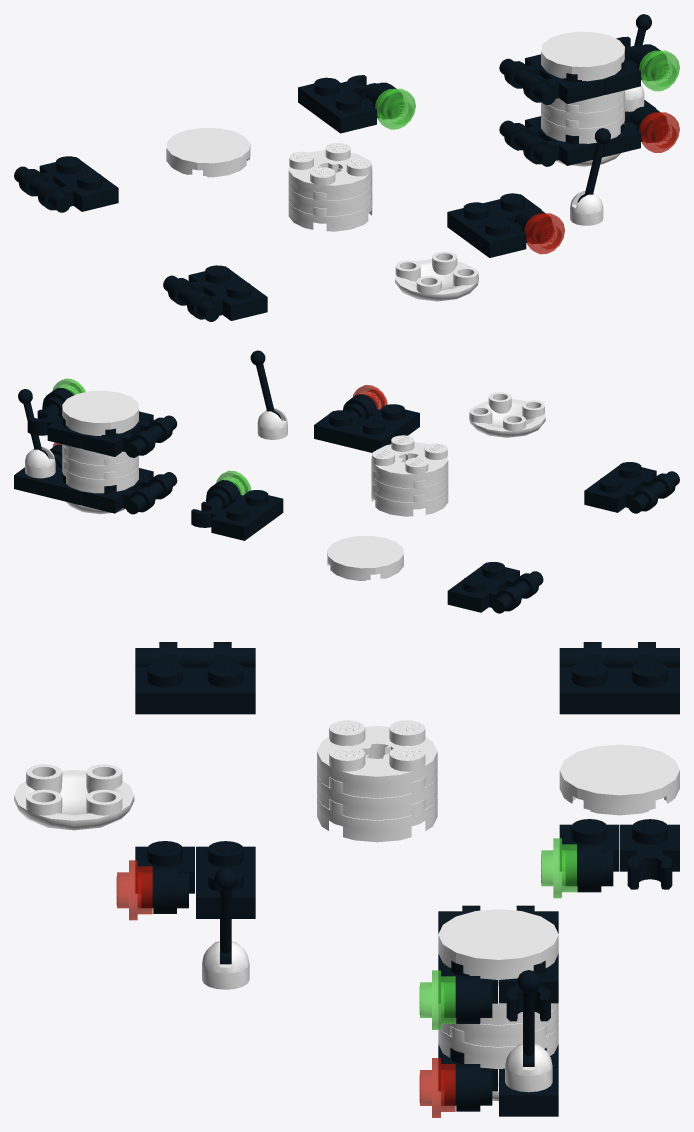
The picture shows the model from 3 angles, top to bottom: view 1: azimuth 30°, elevation 25°; view 2: azimuth 150°, elevation 25°; view 3: azimuth 270°, elevation 25°; orthographic projection. The views are drawn at different scales.
Parts seen in each view (by area): view 1: Inner-Node-Collectables_dot_io-8, Inner-Node-Collectables_dot_io-1, Inner-Node-Collectables_dot_io-7, Inner-Node-Collectables_dot_io-11, Inner-Node-Collectables_dot_io-27, Inner-Node-Collectables_dot_io-0, Inner-Node-Collectables_dot_io-23, Inner-Node-Collectables_dot_io-22, Inner-Node-Collectables_dot_io-3, Inner-Node-Collectables_dot_io-9, Inner-Node-Collectables_dot_io-2, Inner-Node-Collectables_dot_io-24 (+13 smaller); view 2: Inner-Node-Collectables_dot_io-8, Inner-Node-Collectables_dot_io-1, Inner-Node-Collectables_dot_io-7, Inner-Node-Collectables_dot_io-11, Inner-Node-Collectables_dot_io-27, Inner-Node-Collectables_dot_io-0, Inner-Node-Collectables_dot_io-2, Inner-Node-Collectables_dot_io-23, Inner-Node-Collectables_dot_io-22, Inner-Node-Collectables_dot_io-10, Inner-Node-Collectables_dot_io-9, Inner-Node-1-4592c01_dot_dat__Copy-0 (×2) (+12 smaller); view 3: Inner-Node-Collectables_dot_io-1, Inner-Node-Collectables_dot_io-8, Inner-Node-Collectables_dot_io-7, Inner-Node-Collectables_dot_io-11, Inner-Node-Collectables_dot_io-27, Inner-Node-Collectables_dot_io-0, Inner-Node-Collectables_dot_io-2, Inner-Node-Collectables_dot_io-9, Inner-Node-Collectables_dot_io-3, Inner-Node-Collectables_dot_io-10, Inner-Node-1-4592c01_dot_dat__Copy-0 (×2), Inner-Node-Collectables_dot_io-5 (+13 smaller).
Part boxes in pixels (x1,y1,x2,y2): Inner-Node-Collectables_dot_io-8: (14,156,118,212); Inner-Node-Collectables_dot_io-1: (163,265,267,321); Inner-Node-Collectables_dot_io-7: (288,143,372,200); Inner-Node-Collectables_dot_io-11: (166,128,250,177); Inner-Node-Collectables_dot_io-27: (541,31,624,81); Inner-Node-Collectables_dot_io-0: (395,251,478,301); Inner-Node-Collectables_dot_io-23: (499,54,603,104); Inner-Node-Collectables_dot_io-22: (499,116,603,166); Inner-Node-Collectables_dot_io-3: (468,207,552,257); Inner-Node-Collectables_dot_io-9: (319,82,403,133); Inner-Node-Collectables_dot_io-2: (447,193,541,242); Inner-Node-Collectables_dot_io-24: (603,44,667,95); Inner-Node-Collectables_dot_io-8: (447,562,543,613); Inner-Node-Collectables_dot_io-1: (584,462,679,513); Inner-Node-Collectables_dot_io-7: (371,435,448,488); Inner-Node-Collectables_dot_io-11: (327,535,403,580); Inner-Node-Collectables_dot_io-27: (62,390,138,435); Inner-Node-Collectables_dot_io-0: (469,392,545,437); Inner-Node-Collectables_dot_io-2: (314,410,400,452); Inner-Node-Collectables_dot_io-23: (81,411,177,457); Inner-Node-Collectables_dot_io-22: (81,468,177,514); Inner-Node-Collectables_dot_io-10: (191,501,263,540); Inner-Node-Collectables_dot_io-9: (205,480,283,526); Inner-Node-1-4592c01_dot_dat__Copy-0 (×2): (25,408,287,478); Inner-Node-Collectables_dot_io-1: (135,642,255,714); Inner-Node-Collectables_dot_io-8: (559,642,679,714); Inner-Node-Collectables_dot_io-7: (317,720,437,798); Inner-Node-Collectables_dot_io-11: (559,744,679,815); Inner-Node-Collectables_dot_io-27: (438,909,558,979); Inner-Node-Collectables_dot_io-0: (14,764,134,830); Inner-Node-Collectables_dot_io-2: (196,841,255,918); Inner-Node-Collectables_dot_io-9: (559,819,619,892); Inner-Node-Collectables_dot_io-3: (135,841,194,913); Inner-Node-Collectables_dot_io-10: (620,819,679,889); Inner-Node-1-4592c01_dot_dat__Copy-0 (×2): (202,941,552,1092); Inner-Node-Collectables_dot_io-5: (317,795,437,842).
Bounding box in the file's own units: 319 × 60.55 × 220.
